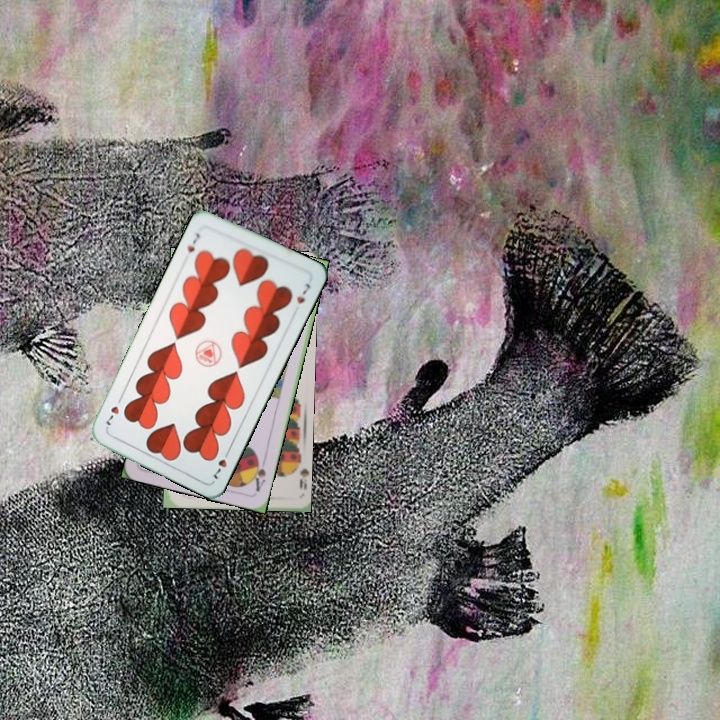H7: (209, 445, 233, 482), (183, 229, 203, 255)
S9: (288, 455, 308, 492)
SA: (248, 453, 268, 494)
